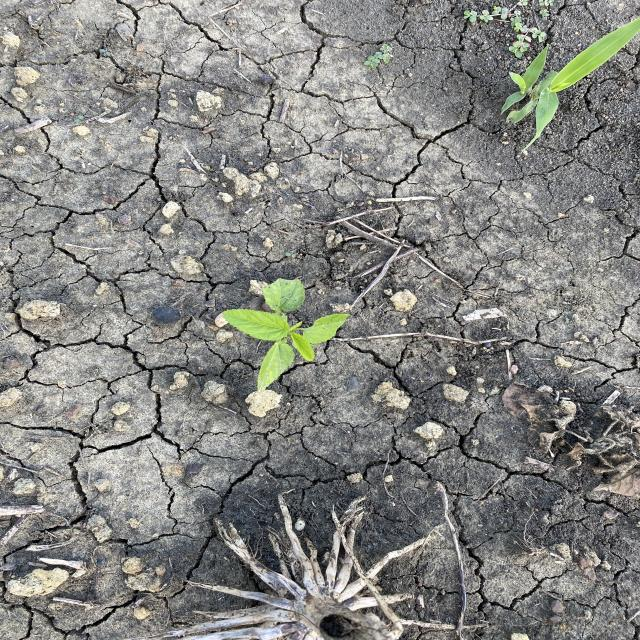PricklySida: (220, 274, 354, 394)
SpottedSpurge: (458, 0, 559, 60), (361, 43, 395, 70)
